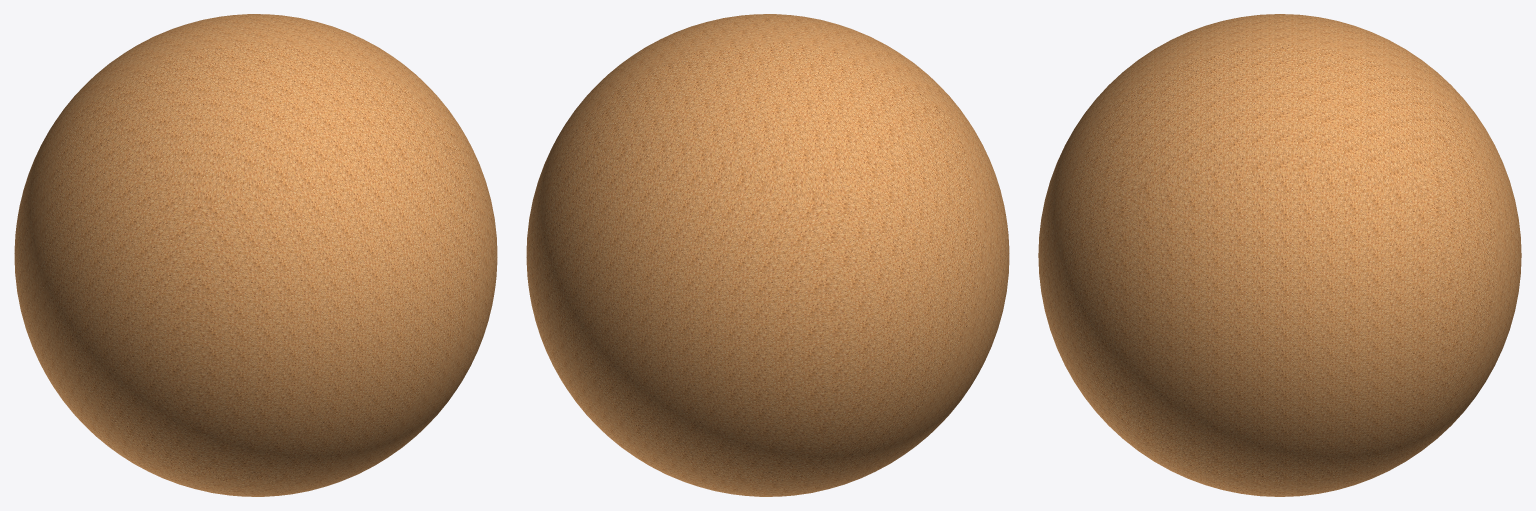
File: World.glb
3 views of the same model, side by side, from view 1: azimuth 30°, elevation 25°; view 2: azimuth 150°, elevation 25°; view 3: azimuth 270°, elevation 25° (orthographic).
Parts seen in each view (by area): view 1: World; view 2: World; view 3: World.
Part boxes in pixels (x1=…): World: x1=14, y1=14, x2=497, y2=496; World: x1=526, y1=14, x2=1009, y2=496; World: x1=1038, y1=14, x2=1521, y2=496.
Bounding box in the file's own units: 100 × 100 × 100.
Materials: 1 (1 with a texture image).
